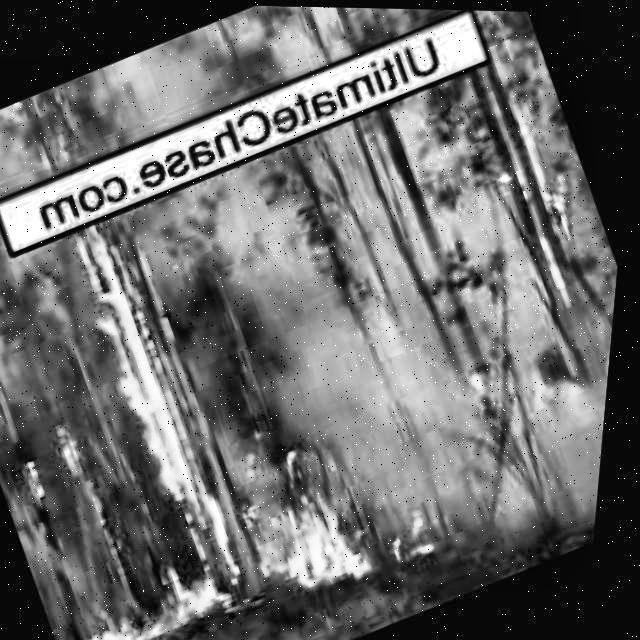Fire: (49, 231, 247, 562), (55, 483, 393, 640), (499, 113, 596, 248), (445, 8, 522, 75), (48, 417, 109, 495), (22, 459, 64, 516)
Smoke: (0, 30, 638, 604), (0, 0, 430, 240)
